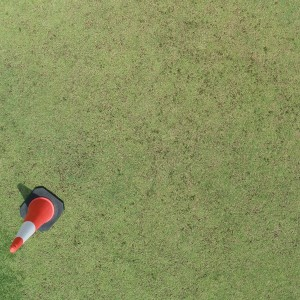traffic cone: (9, 186, 64, 252)
